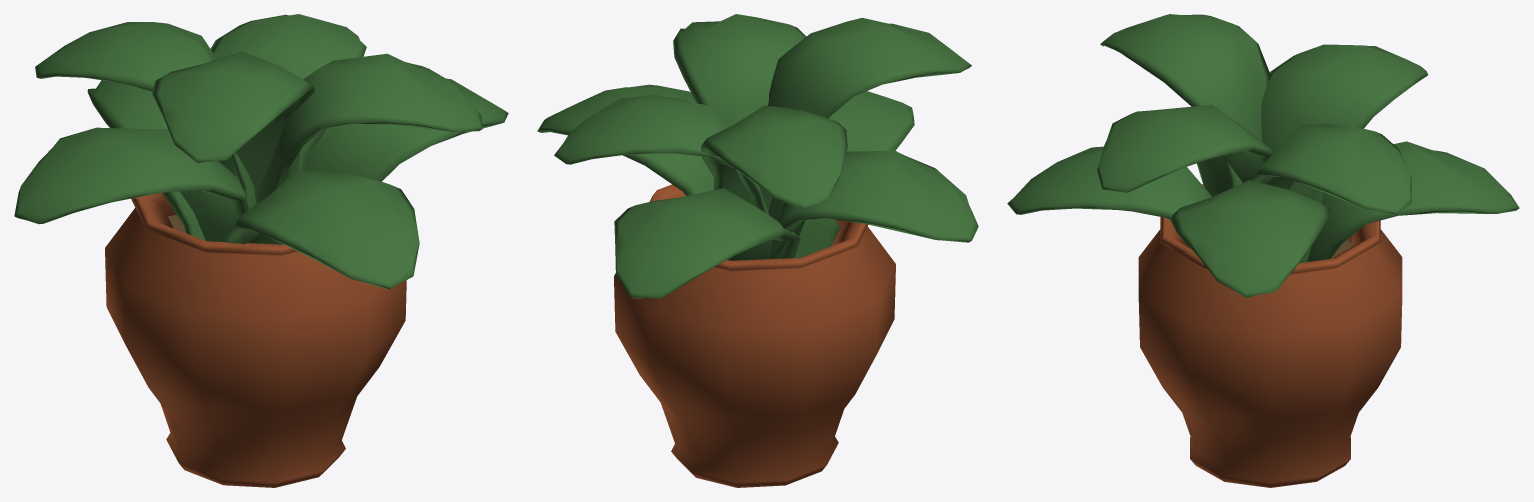
File: plant.fbx
3 views of the same model, side by side, from view 1: azimuth 30°, elevation 25°; view 2: azimuth 150°, elevation 25°; view 3: azimuth 270°, elevation 25° (orthographic). The views are drawn at different scales.
Parts seen in each view (by area): view 1: pCylinder1, pCube3, pCube2, pCube6, pCube5, pCube8, pCube7, pCube4, pCube1; view 2: pCylinder1, pCube1, pCube6, pCube8, pCube3, pCube5, pCube7, pCube2, pCube4; view 3: pCylinder1, pCube4, pCube6, pCube8, pCube5, pCube7, pCube1, pCube2.
Boxes of the visible parts, x1,y1,x2,y2 form: pCylinder1: (105,193,406,487); pCube3: (14,127,249,242); pCube2: (226,170,419,289); pCube6: (152,51,314,204); pCube5: (257,53,482,203); pCube8: (35,22,256,209); pCube7: (210,14,366,170); pCube4: (306,78,508,181); pCube1: (87,80,205,240); pCylinder1: (614,184,895,487); pCube1: (614,188,800,298); pCube6: (768,17,971,221); pCube8: (701,105,847,211); pCube3: (768,150,978,259); pCube5: (673,14,806,257); pCube7: (554,94,769,215); pCube2: (797,91,914,257); pCube4: (537,84,713,195); pCylinder1: (1138,184,1402,487); pCube4: (1170,180,1329,298); pCube6: (1100,14,1270,188); pCube8: (1261,44,1427,263); pCube5: (1097,104,1273,196); pCube7: (1252,124,1411,215); pCube1: (1307,141,1519,261); pCube2: (1007,146,1211,219).
Size of the model in its own units: 81.79 by 72.4 by 83.51.
